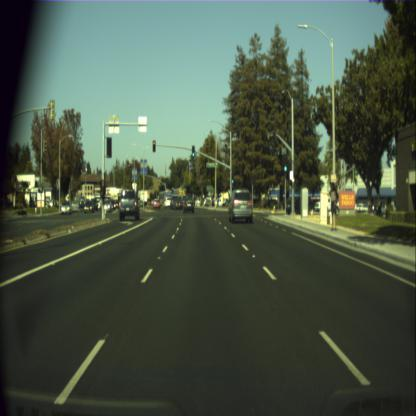Green: (282, 154, 288, 172), (192, 145, 194, 157), (232, 175, 233, 184)
Red: (100, 178, 106, 198), (152, 140, 155, 152)
